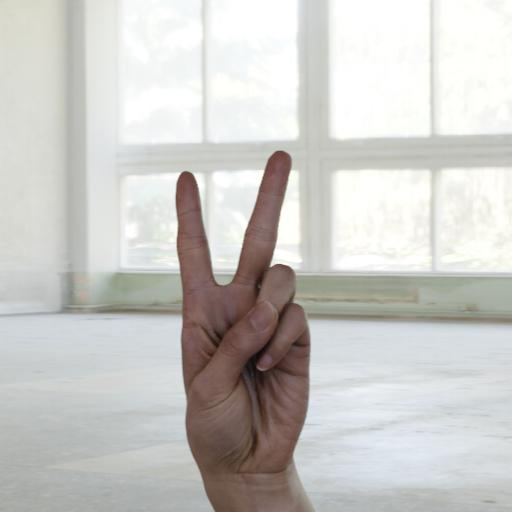V: (151, 148, 324, 490)
